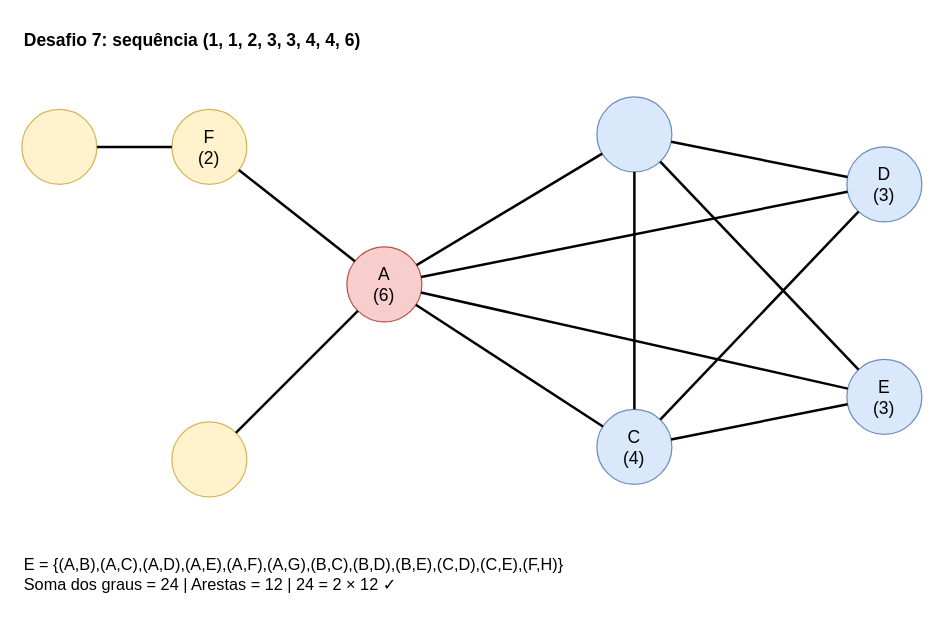
This 944x630 diagram has some shape labels left out. The shapes that lost their labels are listed below. From the top down, each one's centre as x and y in pixels, then its label:
At [59,146]: "H (1)".
At [634,134]: "B (4)".
At [209,459]: "G (1)".
